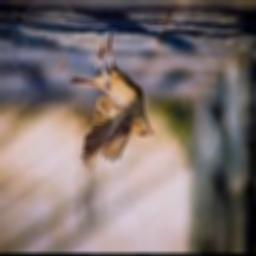Sparrow: (71, 29, 155, 172)
